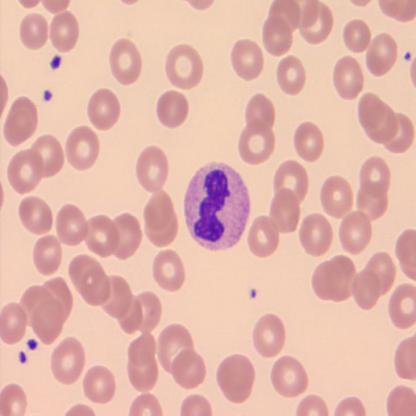Band Neutrophil: (183, 159, 252, 253)
